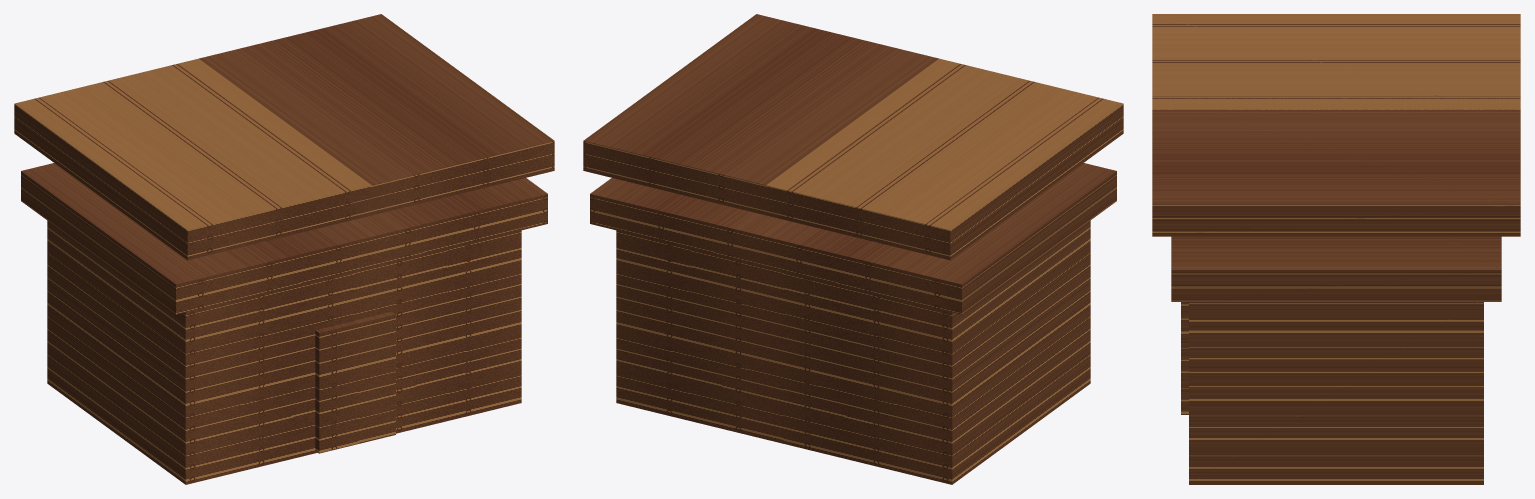
File: cabana.obj
3 views of the same model, side by side, from view 1: azimuth 30°, elevation 25°; view 2: azimuth 150°, elevation 25°; view 3: azimuth 270°, elevation 25° (orthographic). The views are drawn at different scales.
Parts seen in each view (by area): view 1: cabana; view 2: cabana; view 3: cabana.
Boxes of the visible parts, x1,y1,x2,y2 form: cabana: [14, 14, 554, 484]; cabana: [583, 14, 1123, 484]; cabana: [1152, 14, 1520, 484].
Size of the model in its own units: 1.55 by 1.08 by 1.25.
Materials: 1 (1 with a texture image).
